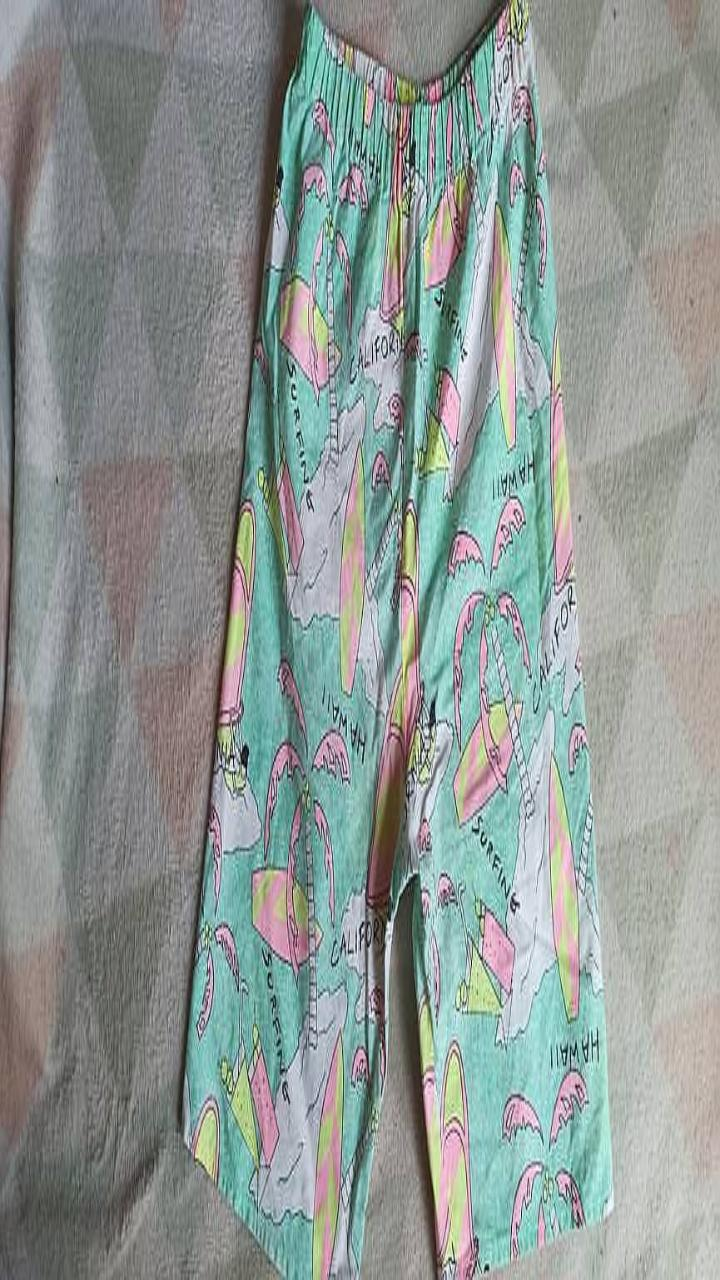Shorts: (183, 0, 612, 1279)
